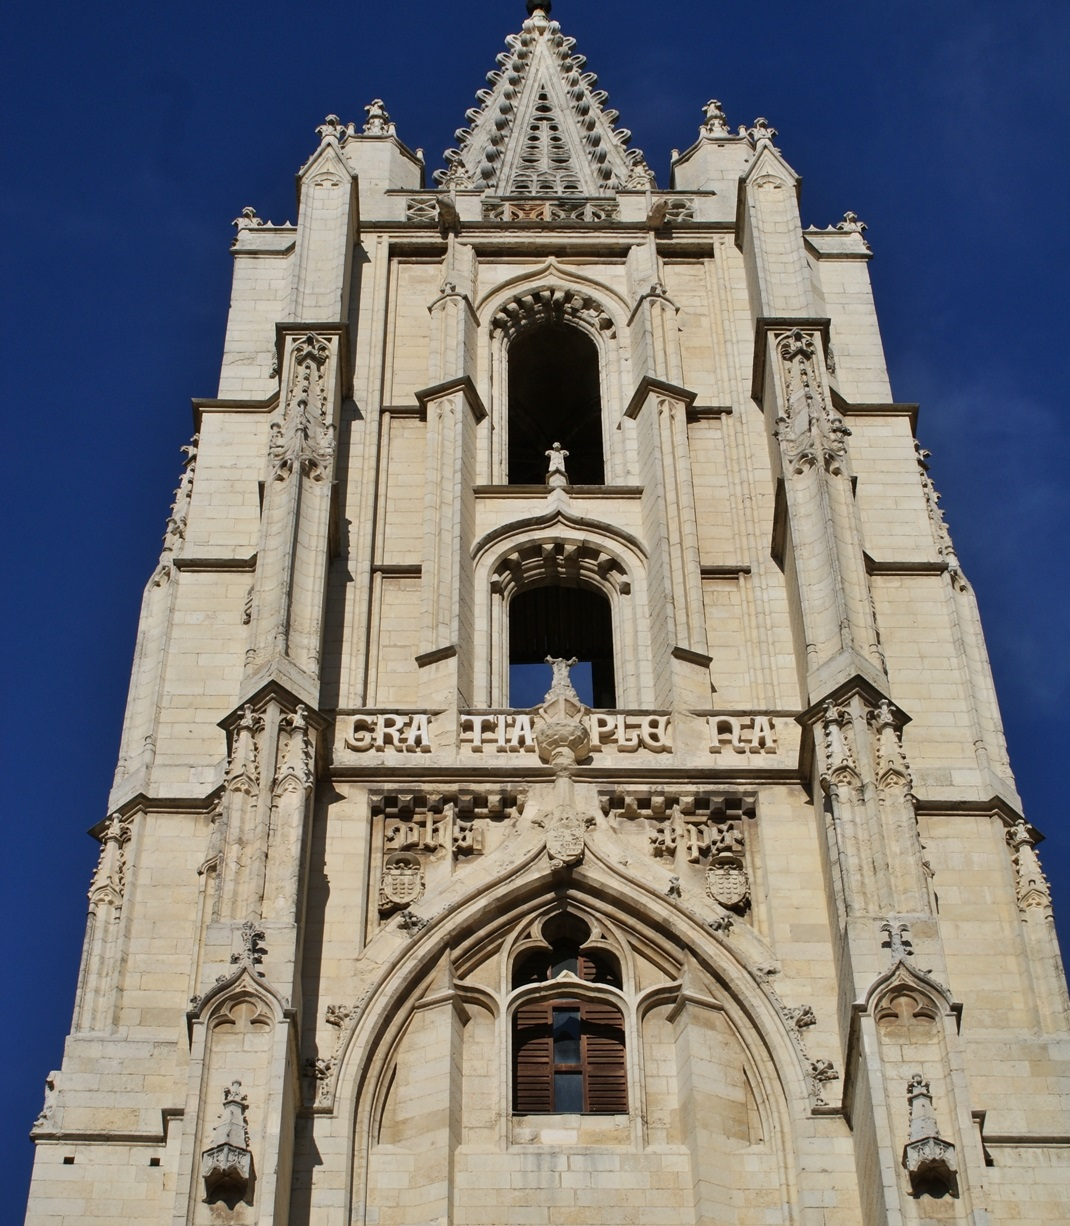arco-apuntado: (351, 860, 796, 1118)
arco-conopial: (468, 504, 649, 557), (478, 253, 629, 316), (190, 961, 293, 1014), (859, 958, 955, 1008)
